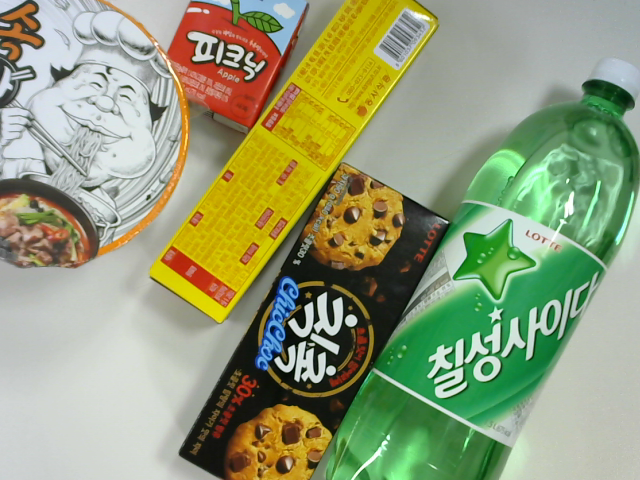Chicchok_Original_2400: (171, 156, 448, 480)
Chilseong_Cider_1.5L: (303, 55, 639, 480)
Hejangchan: (1, 1, 197, 269)
Picnic_Apple: (156, 1, 312, 131)
Ritz_Remon_96g: (151, 1, 446, 330)
